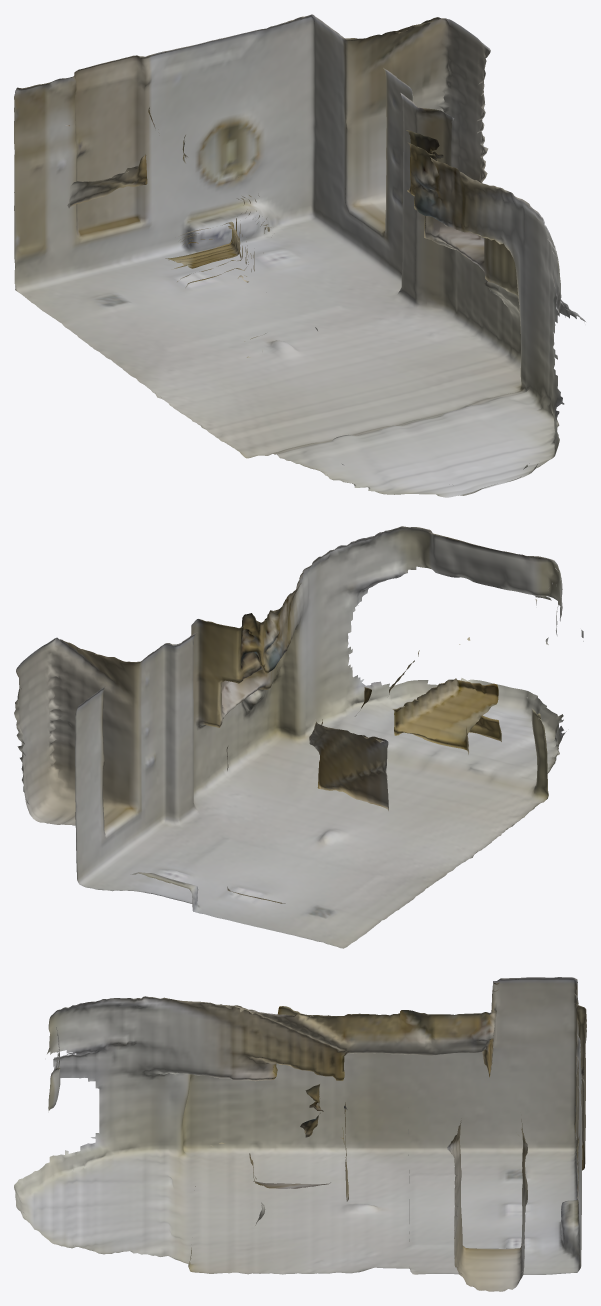
The model's file is demo-mesh.glb.
3 views of the same model, one above another, from view 1: azimuth 30°, elevation 25°; view 2: azimuth 150°, elevation 25°; view 3: azimuth 270°, elevation 25° (orthographic). The views are drawn at different scales.
Visible parts, largest first — view 1: world; view 2: world; view 3: world.
Boxes of the visible parts, x1=… form: world: x1=14, y1=14, x2=585, y2=497; world: x1=14, y1=526, x2=583, y2=948; world: x1=14, y1=977, x2=586, y2=1291.
Bounding box in the file's own units: 3.94 × 1.92 × 5.64.
